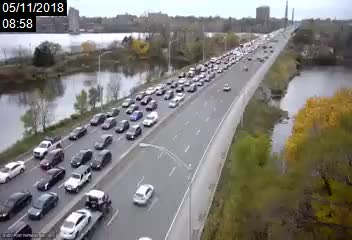congestion: (1, 131, 117, 240), (60, 92, 164, 151), (124, 72, 203, 109), (172, 58, 228, 81)
personal_car: (27, 191, 59, 220), (1, 191, 31, 221), (64, 166, 92, 192), (33, 135, 64, 156), (37, 168, 65, 191), (1, 161, 25, 183), (132, 184, 154, 207), (40, 149, 65, 168), (91, 150, 112, 169), (71, 149, 92, 166), (95, 134, 113, 151), (127, 125, 141, 142), (69, 126, 86, 140), (143, 113, 158, 128), (115, 118, 129, 133), (89, 112, 104, 124), (101, 117, 116, 129), (125, 102, 138, 113), (130, 110, 143, 121), (107, 107, 119, 118), (139, 95, 152, 105), (163, 90, 174, 100), (146, 101, 157, 111), (185, 84, 197, 93), (169, 99, 179, 108), (222, 83, 231, 92), (122, 98, 132, 106), (146, 87, 155, 95), (156, 88, 165, 96), (175, 92, 184, 100), (192, 74, 200, 82), (155, 83, 164, 90), (136, 92, 145, 99), (166, 78, 174, 85), (169, 81, 177, 88), (183, 79, 191, 86), (176, 85, 184, 92), (177, 77, 184, 84), (196, 80, 204, 86), (179, 71, 185, 78)
truck: (58, 190, 111, 240), (188, 66, 201, 78)
